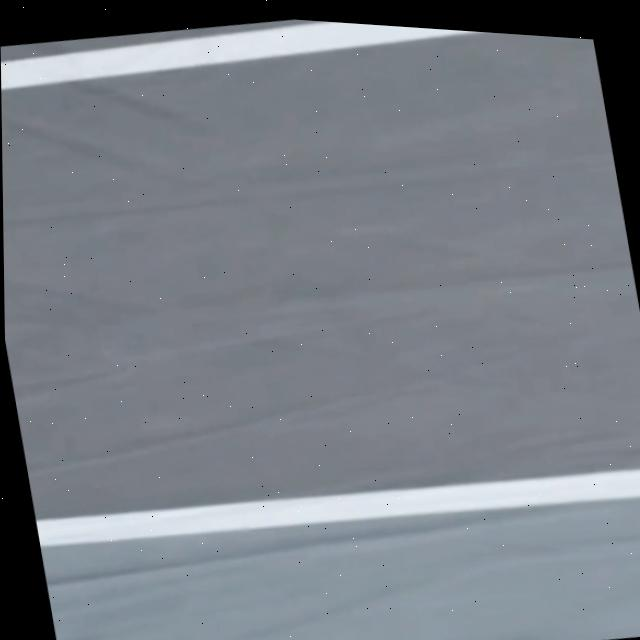center: (1, 22, 490, 90)
left: (35, 470, 640, 546)
